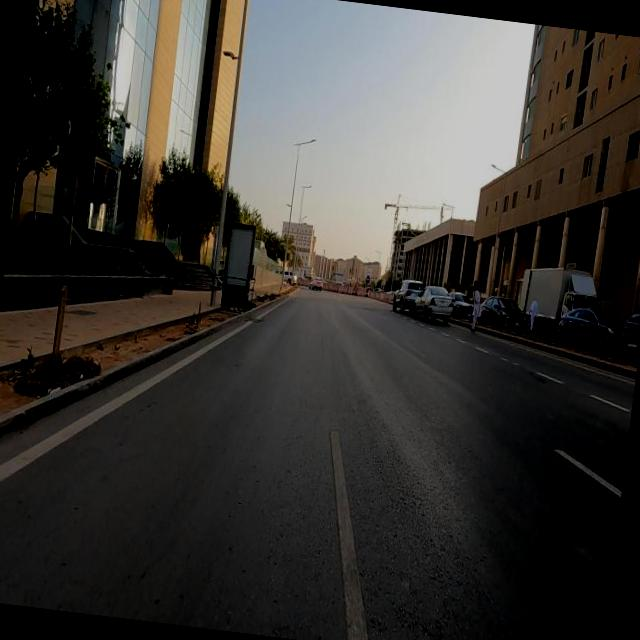debris: (0, 272, 161, 444), (156, 276, 228, 370)
